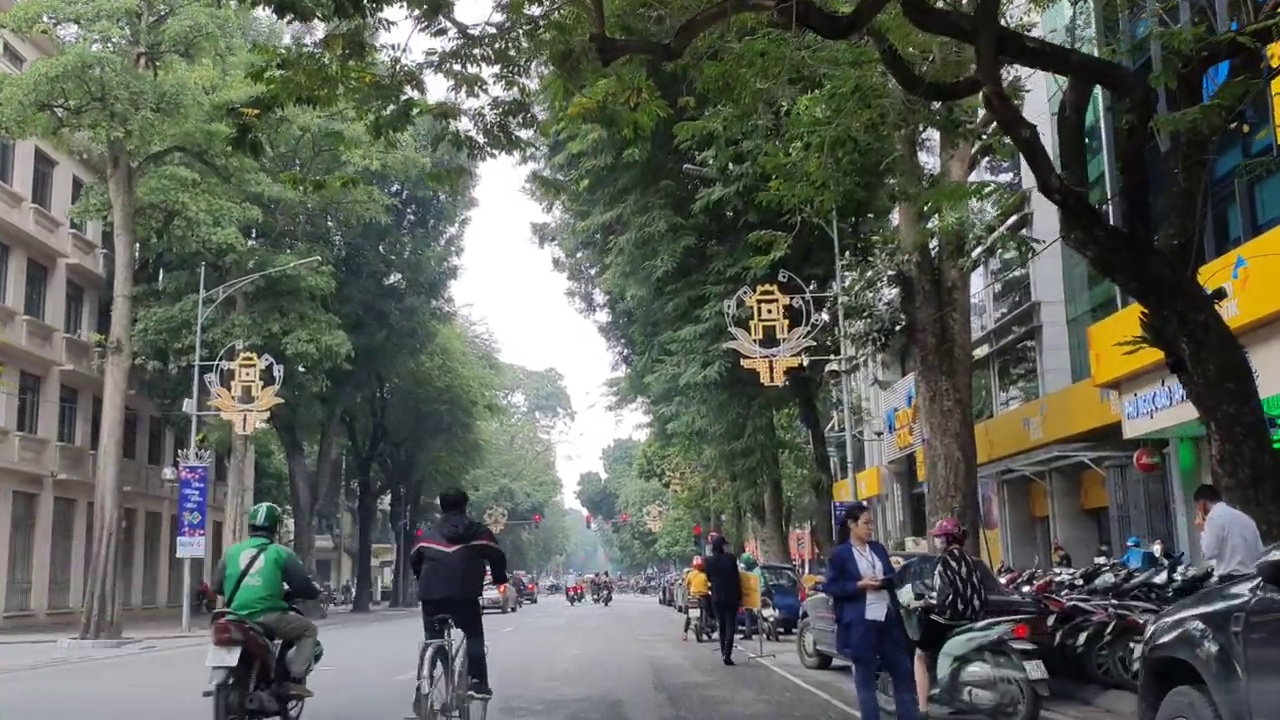vehicle-plate: (200, 643, 240, 670), (1020, 657, 1053, 683)
